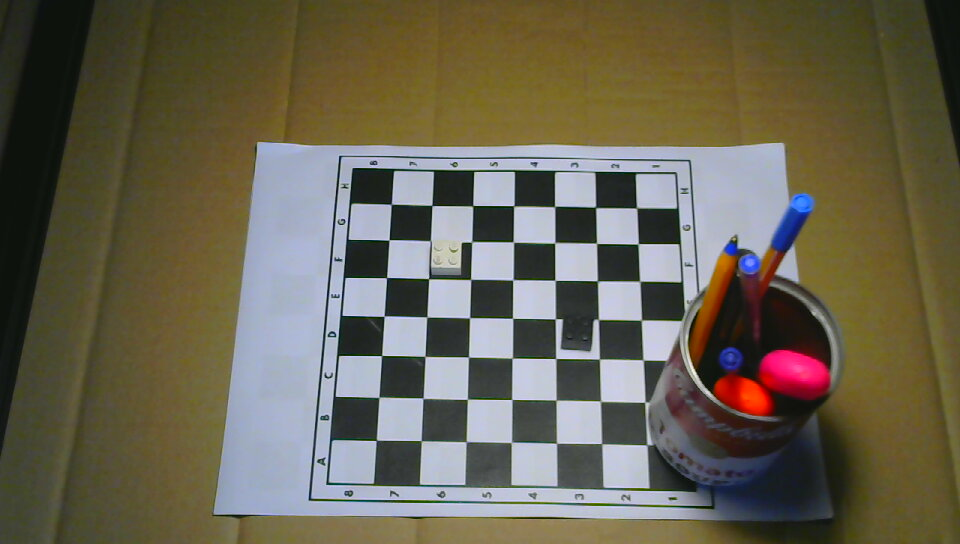bp: (560, 313, 593, 351)
wp: (430, 238, 461, 276)
